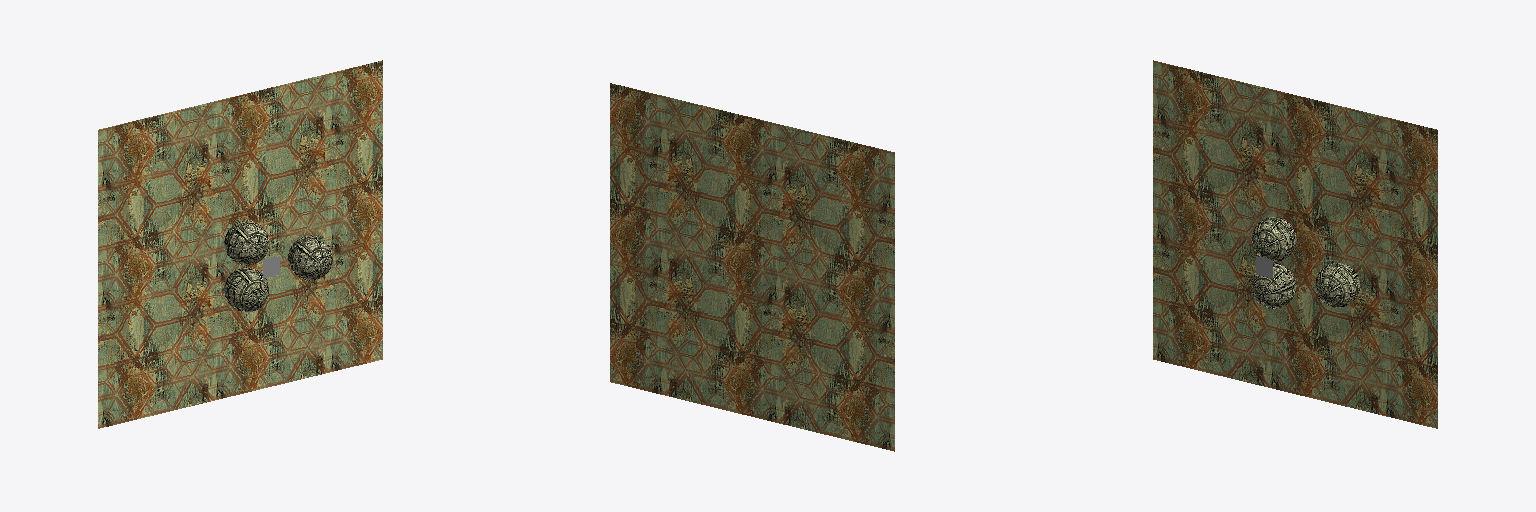
3 views of the same model, side by side, from view 1: azimuth 30°, elevation 25°; view 2: azimuth 150°, elevation 25°; view 3: azimuth 330°, elevation 25° (orthographic).
Parts seen in each view (by area): view 1: floor, sphere1_sphere.001, sphere2_sphere.002, sphere3_sphere; view 2: floor; view 3: floor, sphere1_sphere.001, sphere2_sphere.002, sphere3_sphere.
Part boxes in pixels (left/top/right/bottom): floor: left=98, top=60, right=382, bottom=428; sphere1_sphere.001: left=288, top=235, right=332, bottom=280; sphere2_sphere.002: left=224, top=221, right=268, bottom=265; sphere3_sphere: left=224, top=267, right=268, bottom=311; floor: left=610, top=83, right=894, bottom=451; floor: left=1153, top=60, right=1437, bottom=428; sphere1_sphere.001: left=1315, top=263, right=1359, bottom=307; sphere2_sphere.002: left=1251, top=217, right=1296, bottom=261; sphere3_sphere: left=1251, top=264, right=1296, bottom=308.
Size of the model in its own units: 16 by 16 by 3.
Materials: 3 (2 with a texture image).